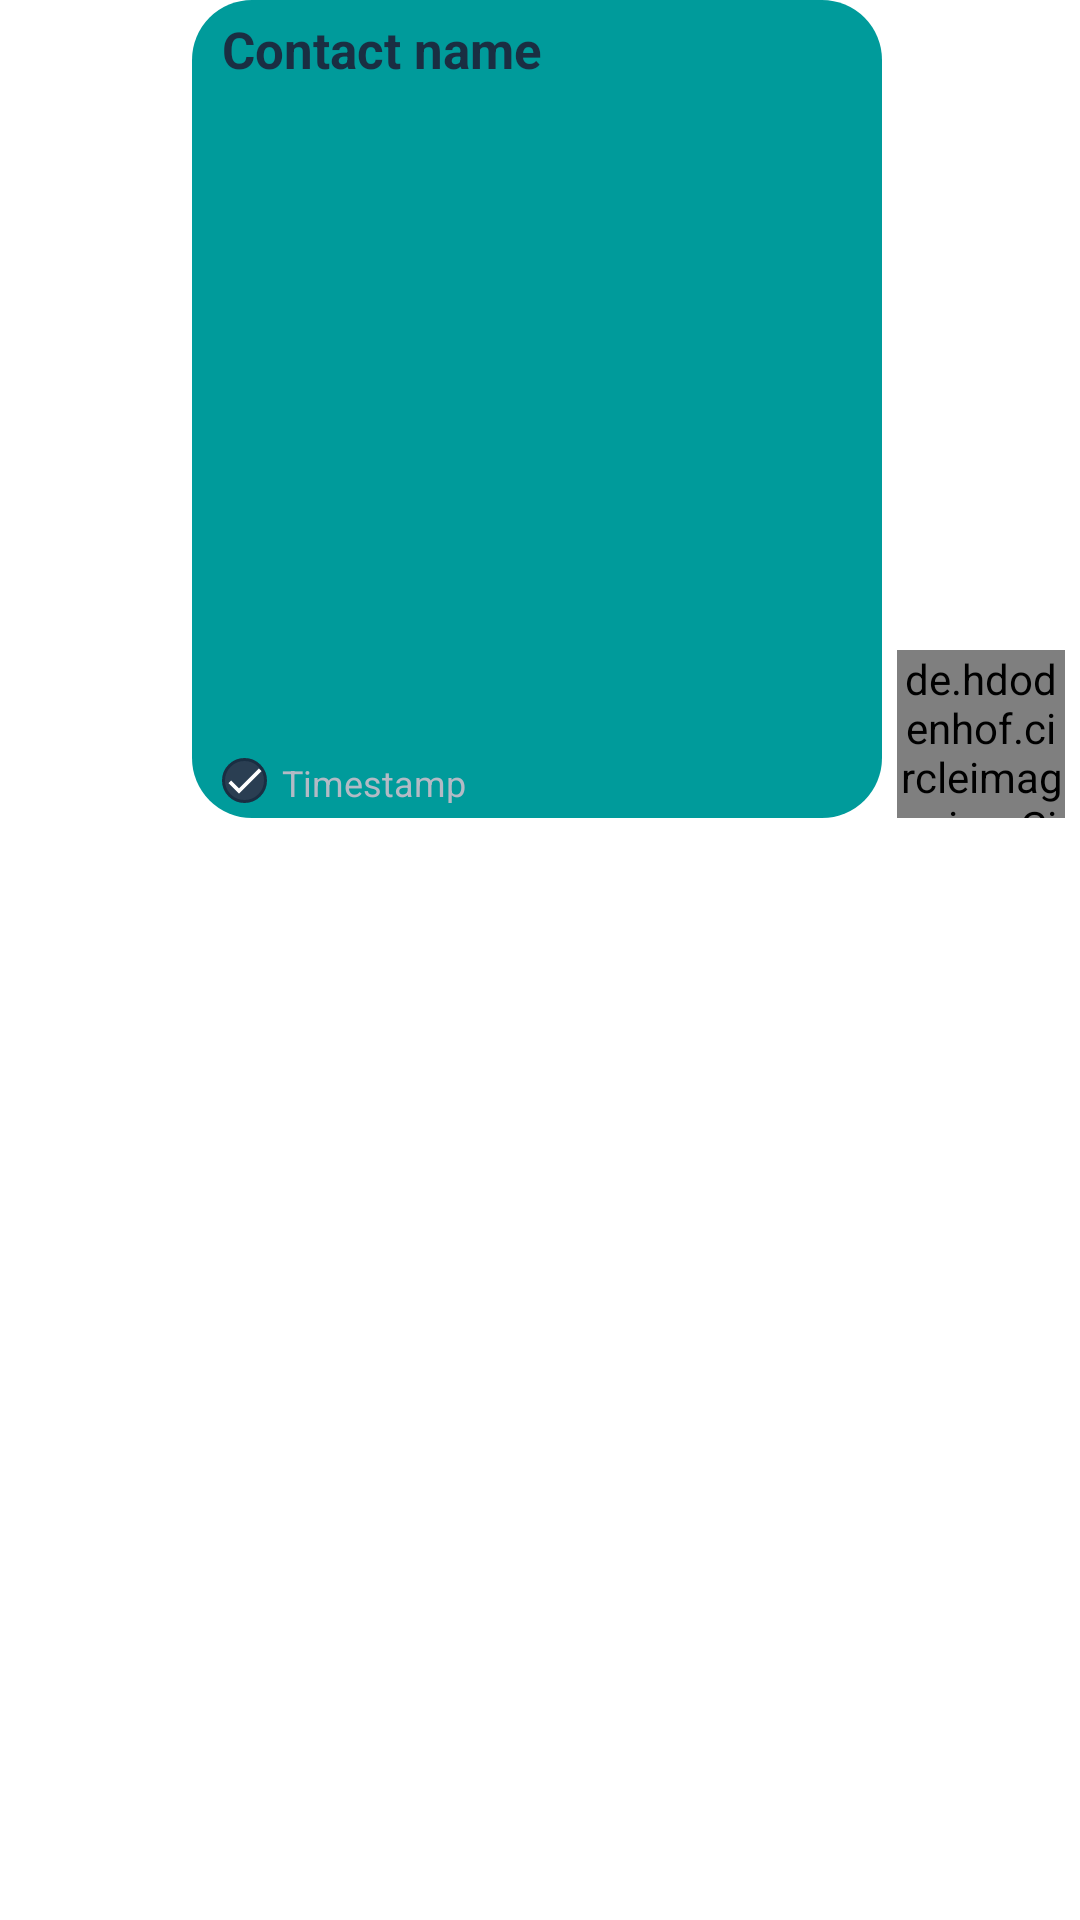

Named icons in this screenshot (1080px x 1920px) and their bounding boxes, (x1, y1, x2, y2):
done: (222, 758, 267, 803)
